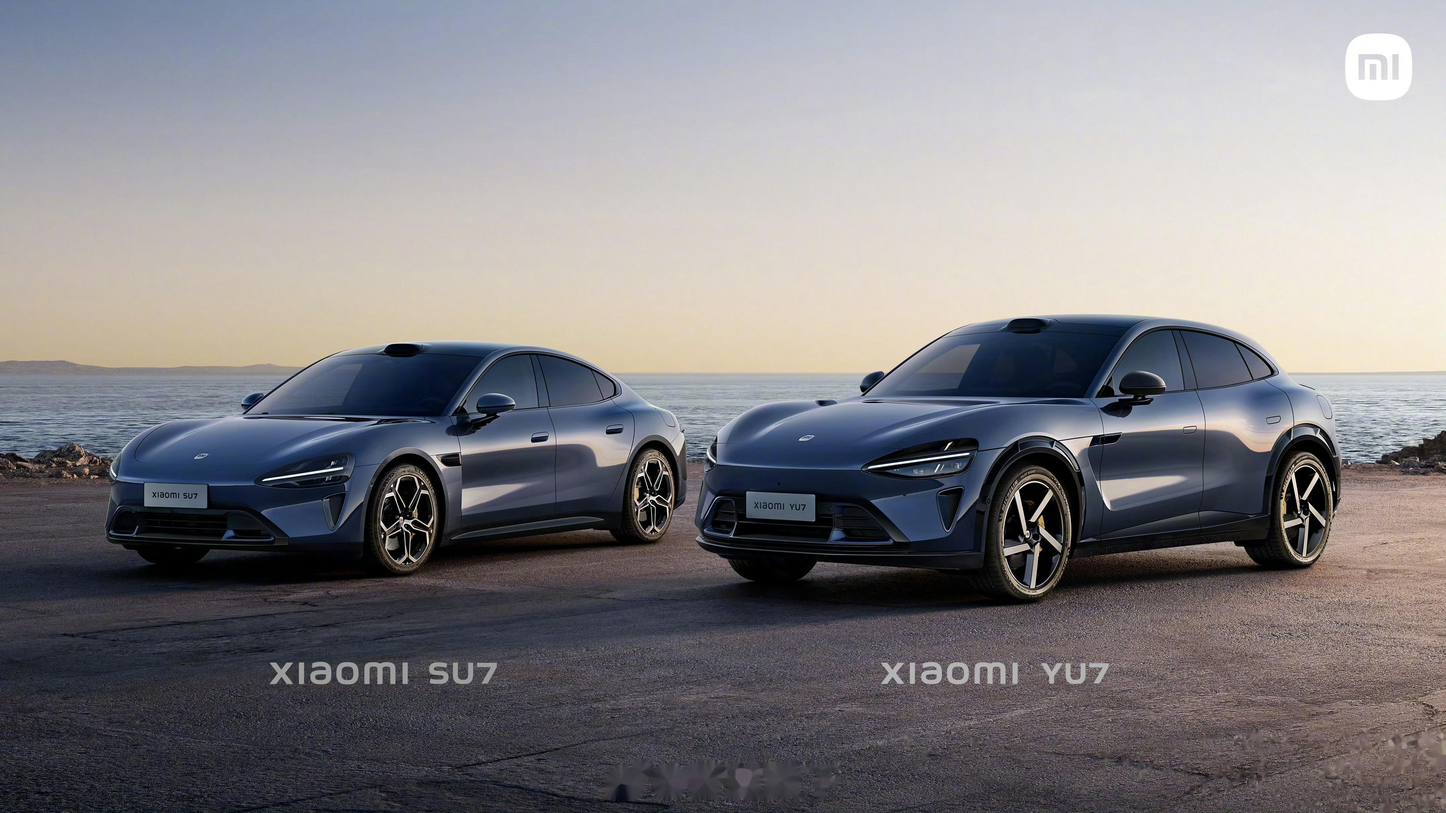other: (695, 301, 1346, 598)
su7: (91, 333, 697, 560)
